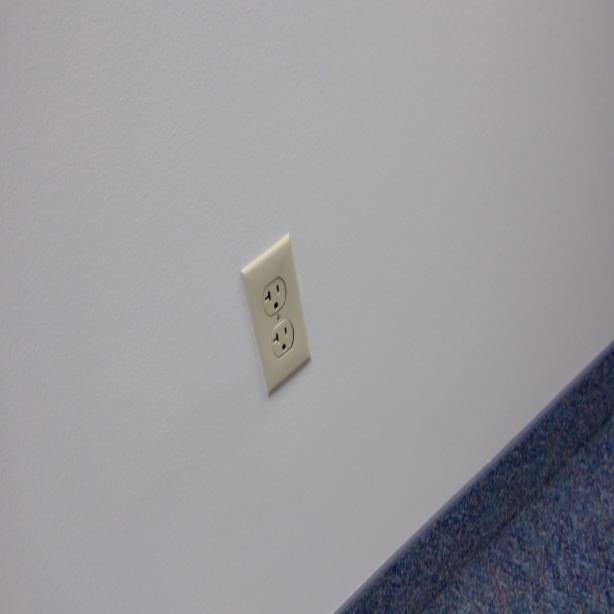typeb: (262, 282, 284, 311), (271, 324, 290, 356)
